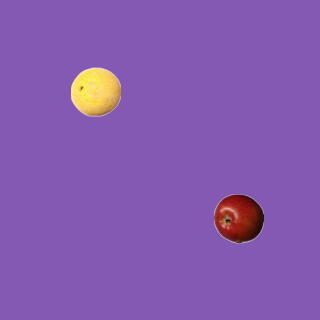Apple Braeburn: (213, 193, 263, 243)
Cantaloupe 1: (70, 66, 120, 116)
